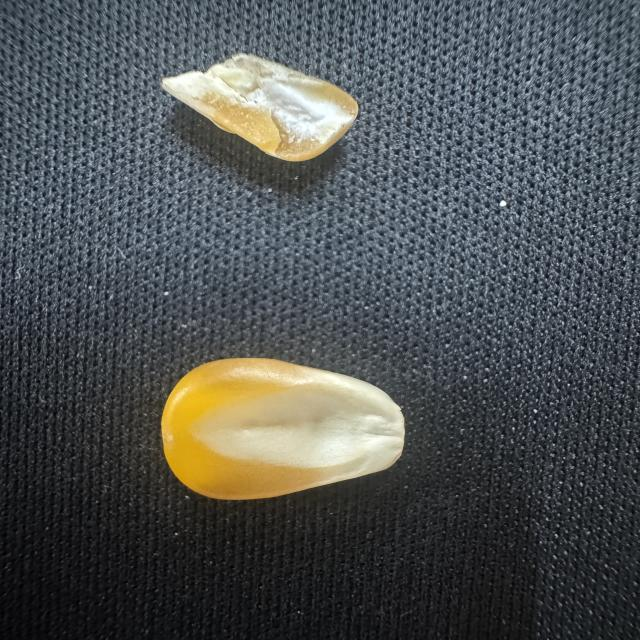Bad-Seed: (156, 49, 364, 163)
Good-Seed: (156, 352, 412, 506)
